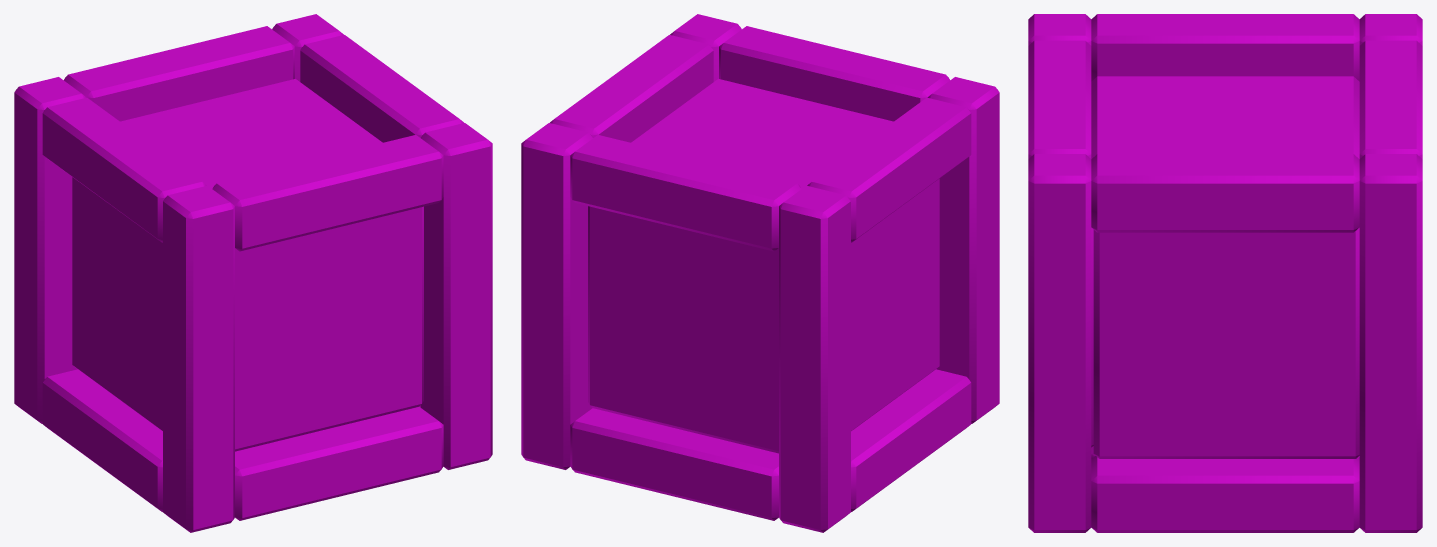
The model's file is Destructible_State_01.fbx.
The picture shows the model from 3 angles, left to right: view 1: azimuth 30°, elevation 25°; view 2: azimuth 150°, elevation 25°; view 3: azimuth 270°, elevation 25°; orthographic projection. The views are drawn at different scales.
Visible parts, largest first — view 1: Destructible_State_1; view 2: Destructible_State_1; view 3: Destructible_State_1.
Boxes of the visible parts, left/top/right/bottom form: Destructible_State_1: left=14, top=14, right=492, bottom=532; Destructible_State_1: left=521, top=14, right=999, bottom=532; Destructible_State_1: left=1028, top=14, right=1422, bottom=532.
Bounding box in the file's own units: 362 × 362 × 362.
